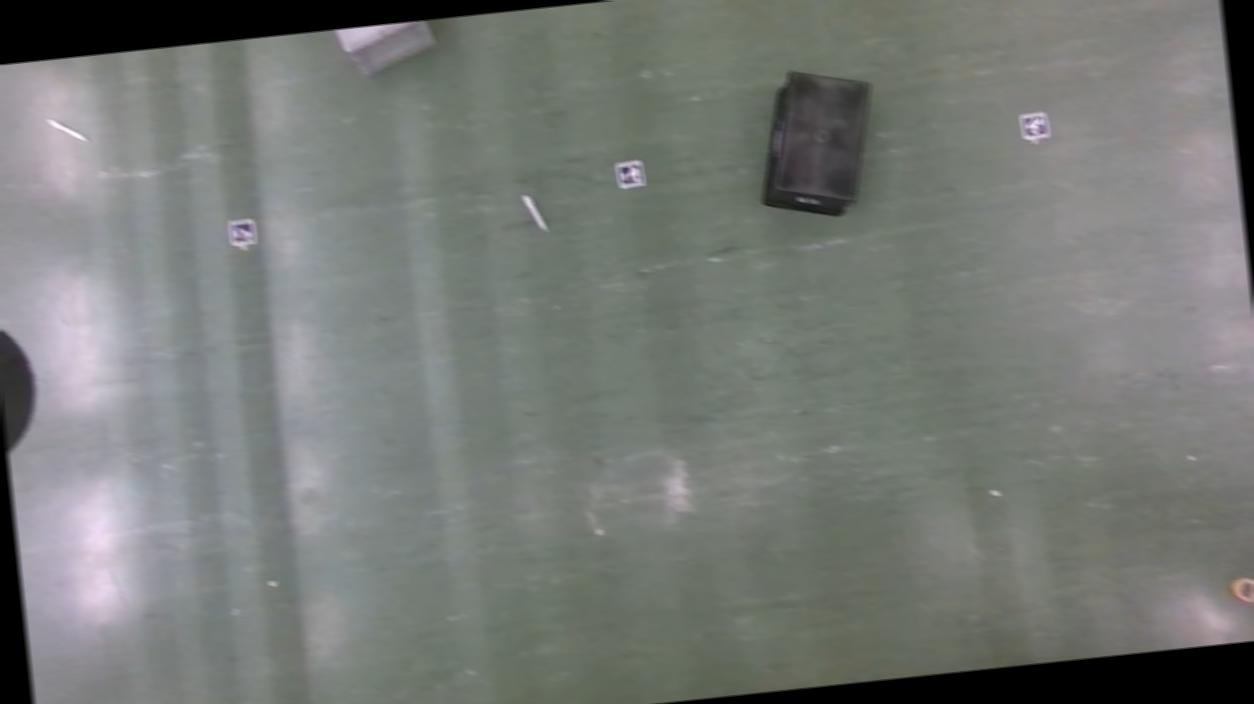probes: (48, 115, 86, 147), (522, 194, 544, 233)
rako: (748, 64, 884, 226)
